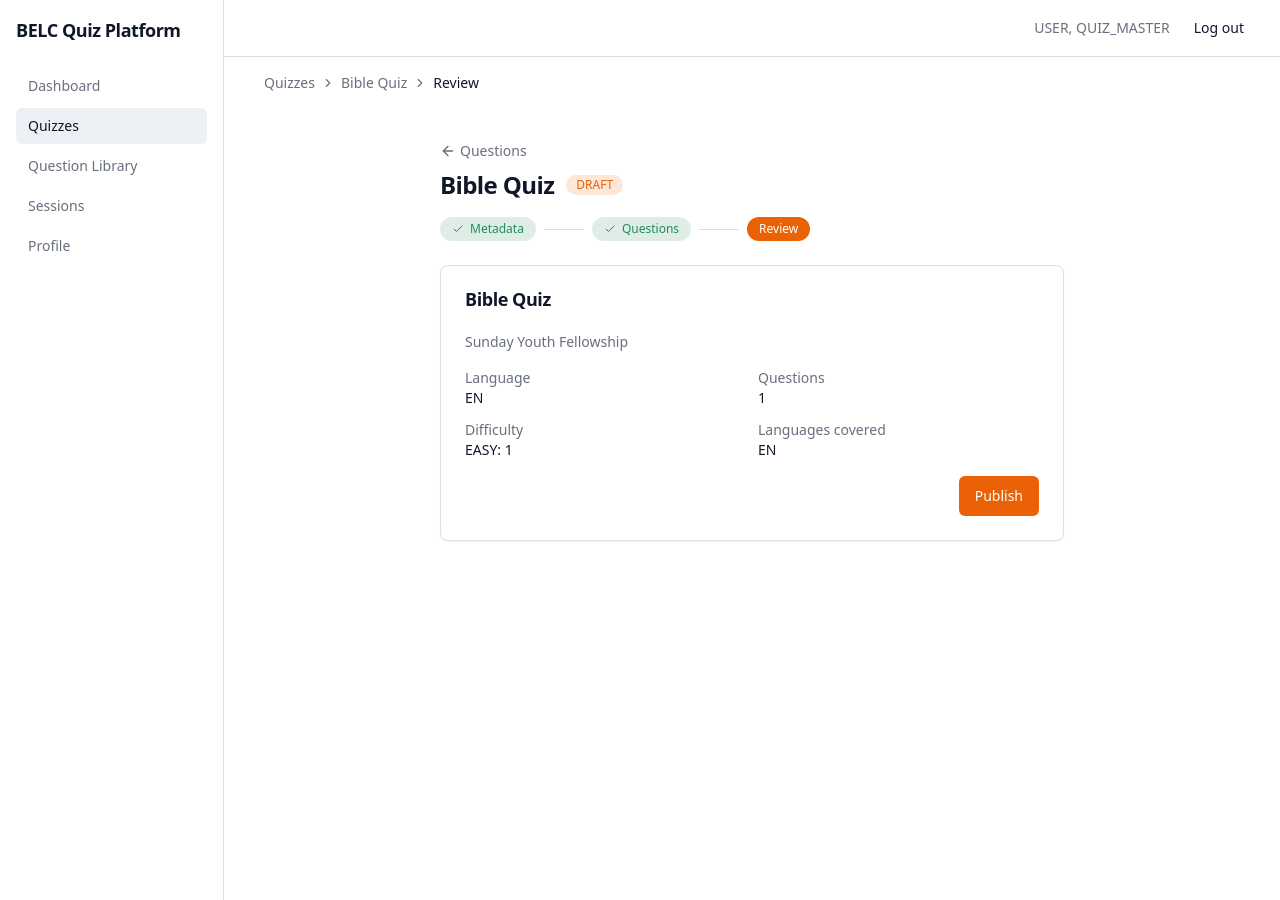
Test: QuizReviewPage › publishes after confirmation and returns to My Quizzes
What coordinates should you click on to do the following:
click the button "Publish"
I would click on:
 (999, 496)
Its box is [959,476,1039,516].
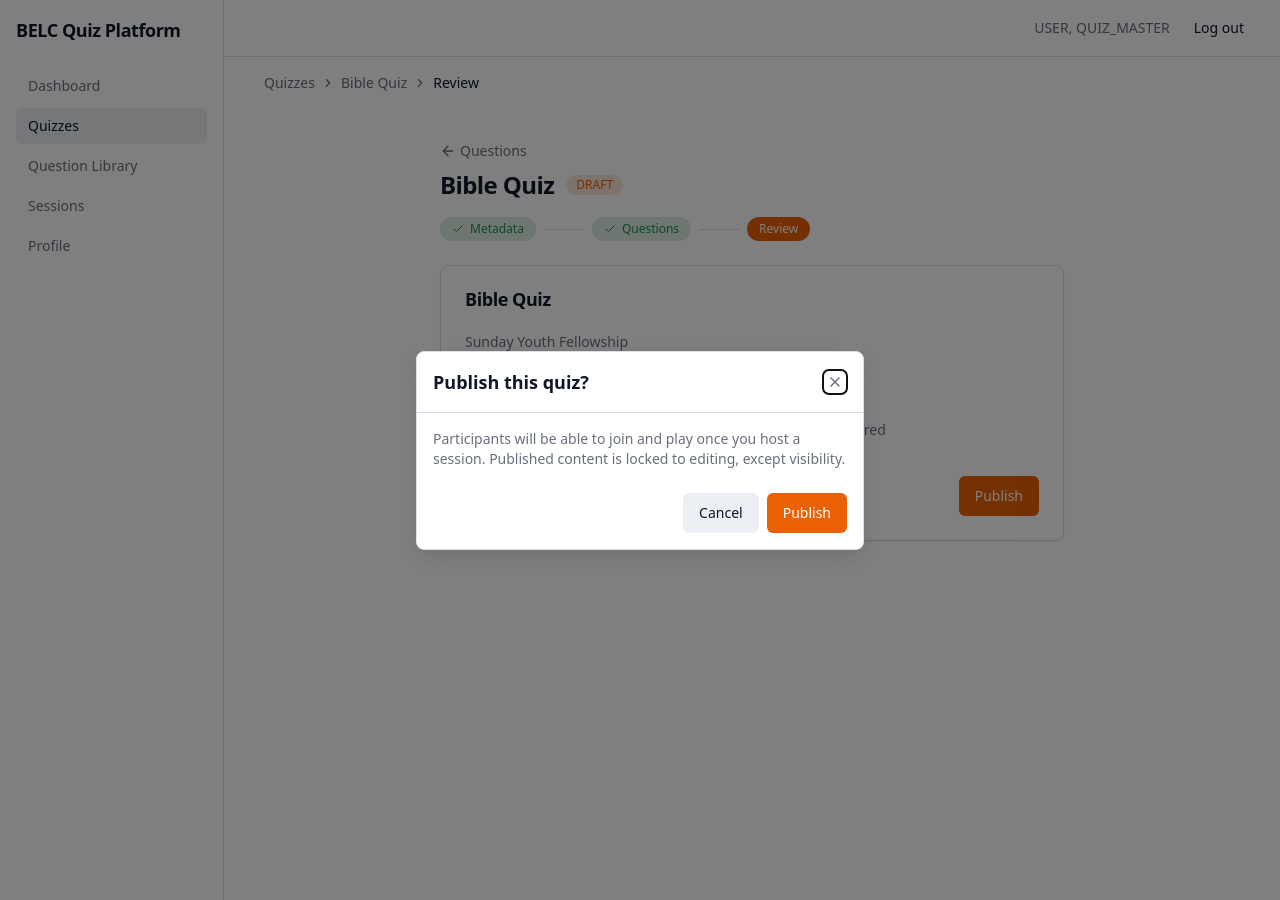
What coordinates should you click on to do the following:
click the button "Publish"
I would click on:
 (807, 512)
Its box is [767,492,847,532].
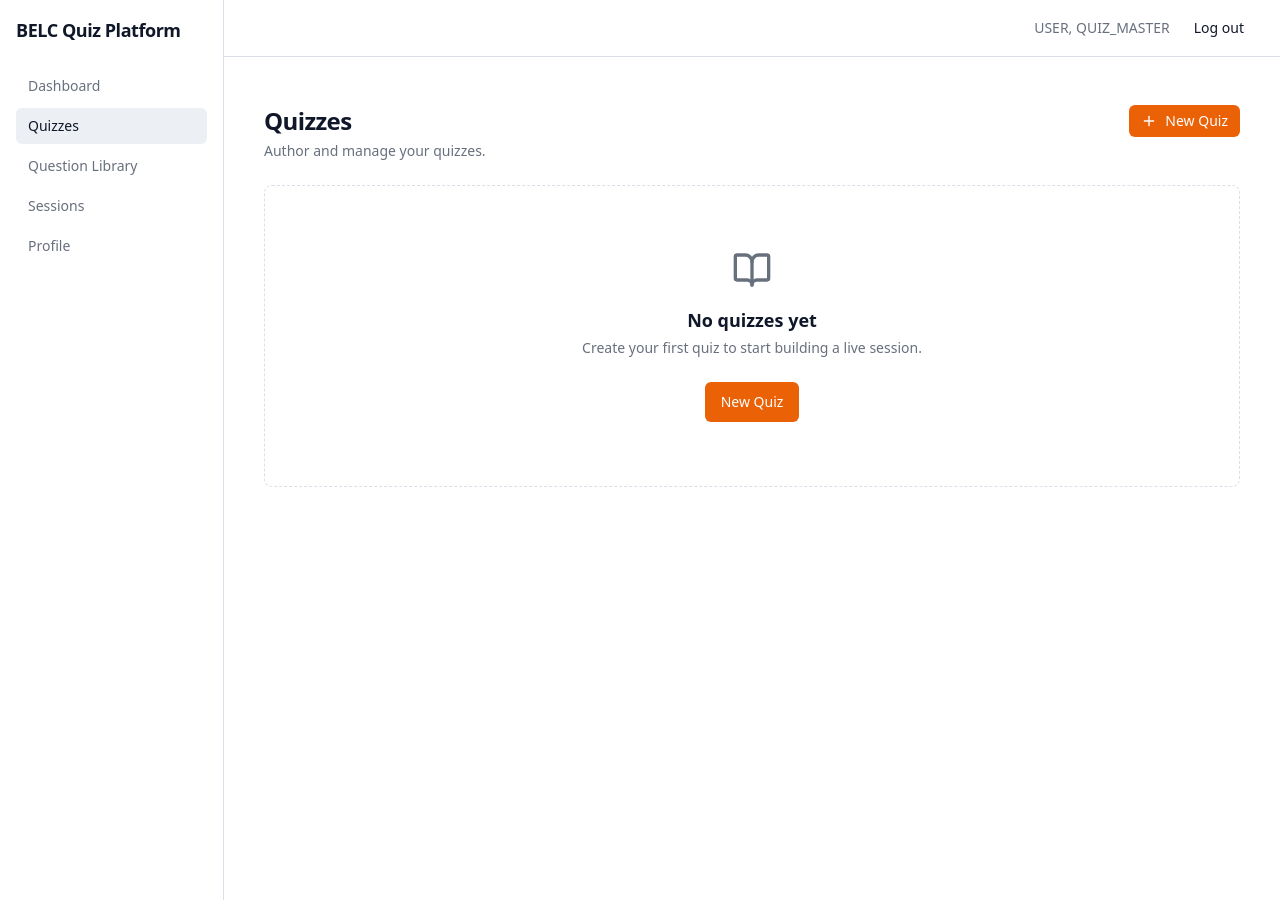
Expected: the heading "Quizzes" is shown, [264,104,352,137]
